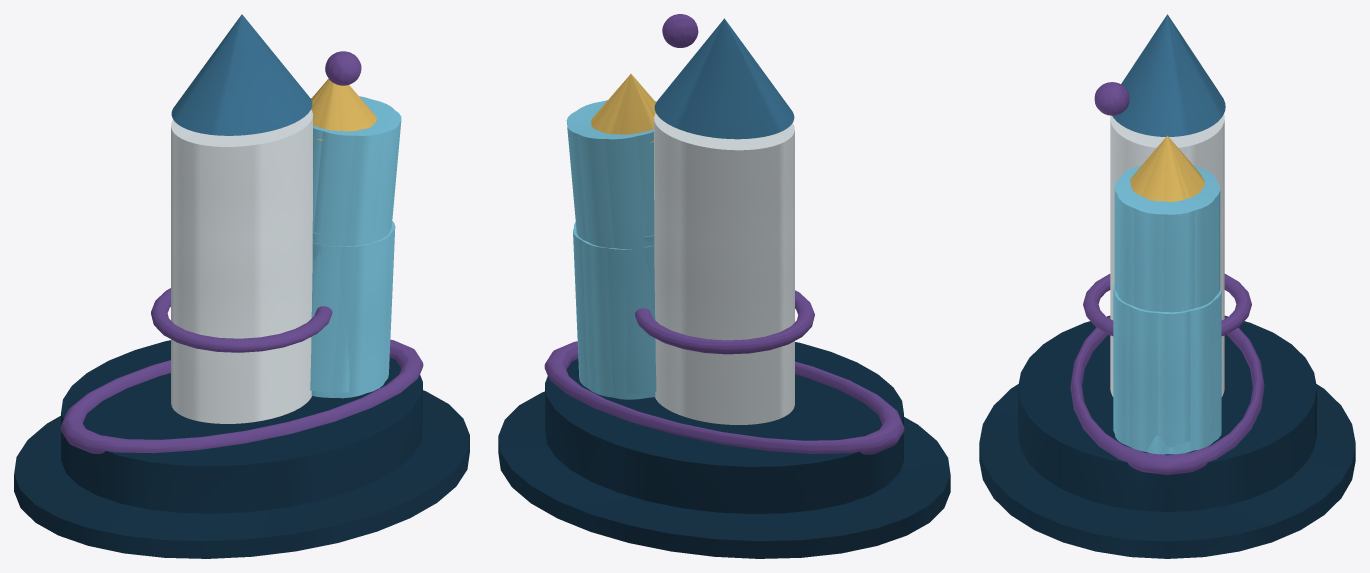
File: 0543_岩石矿物图鉴_冰洲石.glb
3 views of the same model, side by side, from view 1: azimuth 30°, elevation 25°; view 2: azimuth 150°, elevation 25°; view 3: azimuth 270°, elevation 25° (orthographic). The views are drawn at different scales.
Parts seen in each view (by area): view 1: card_0543; view 2: card_0543; view 3: card_0543.
Boxes of the visible parts, x1,y1,x2,y2 form: card_0543: [14, 14, 469, 558]; card_0543: [498, 14, 950, 558]; card_0543: [979, 14, 1355, 558].
Bounding box in the file's own units: 0.944 × 1 × 0.764.
